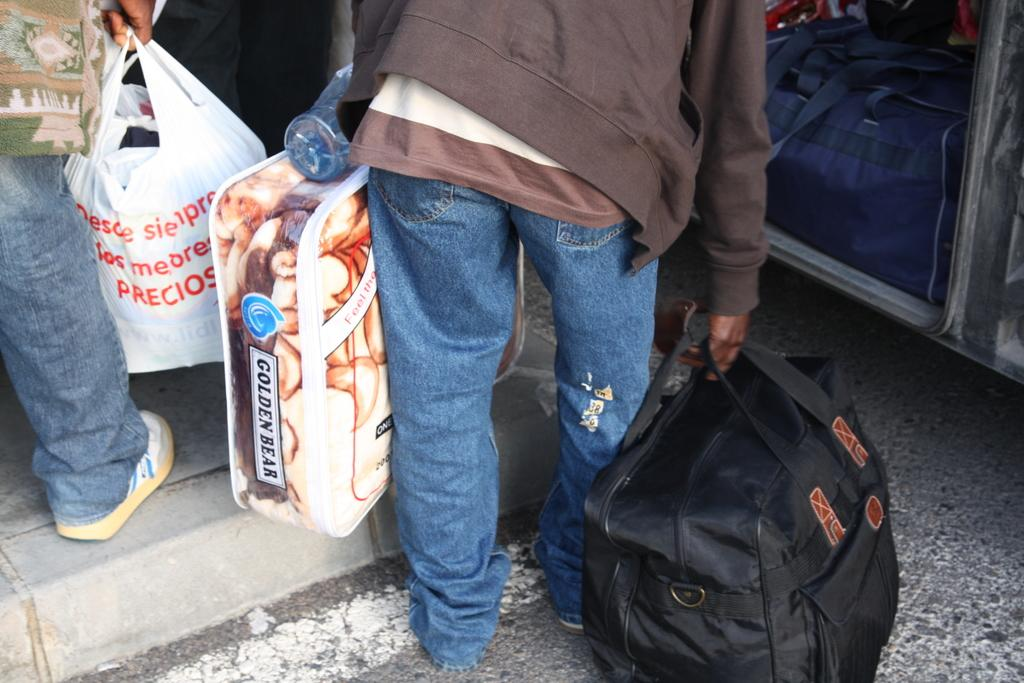Luggage-and-bags: (220, 149, 534, 546), (577, 311, 900, 664)
